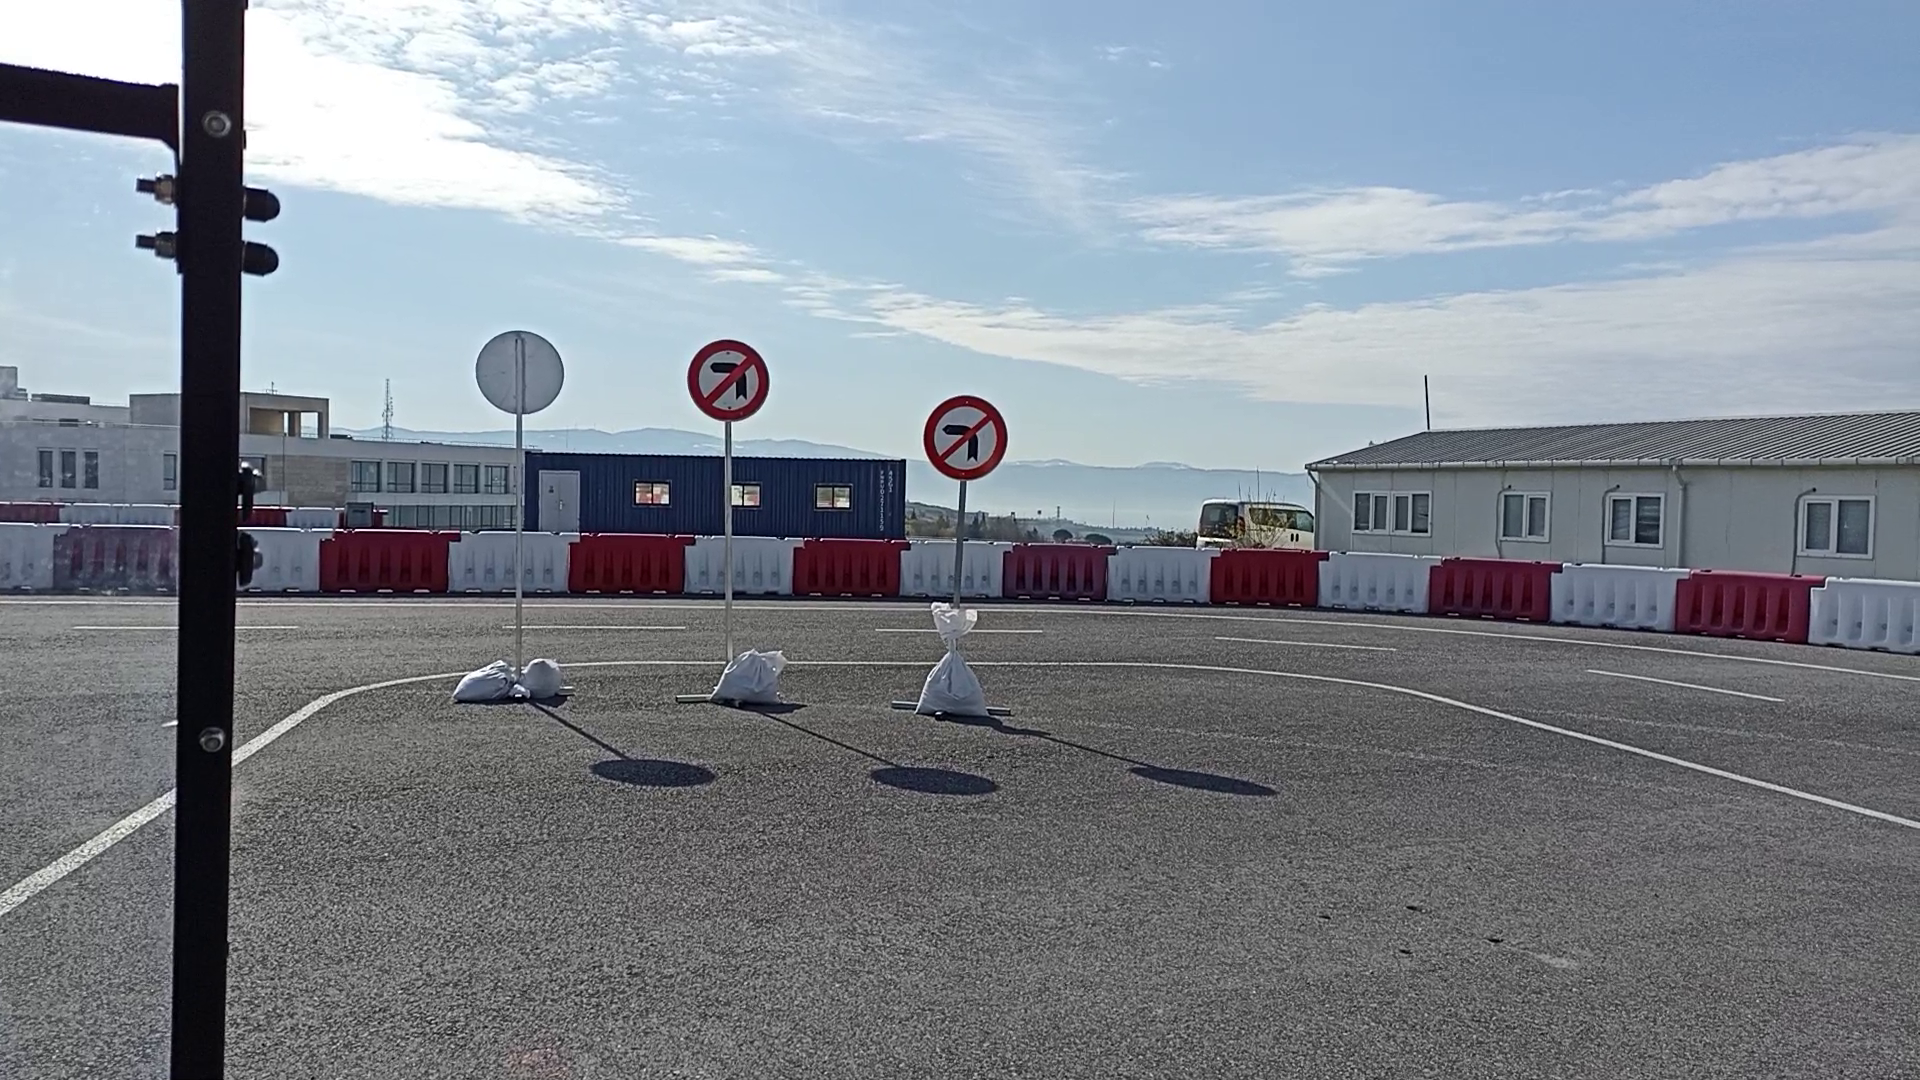noleft: (923, 393, 1009, 483), (686, 336, 770, 425)
